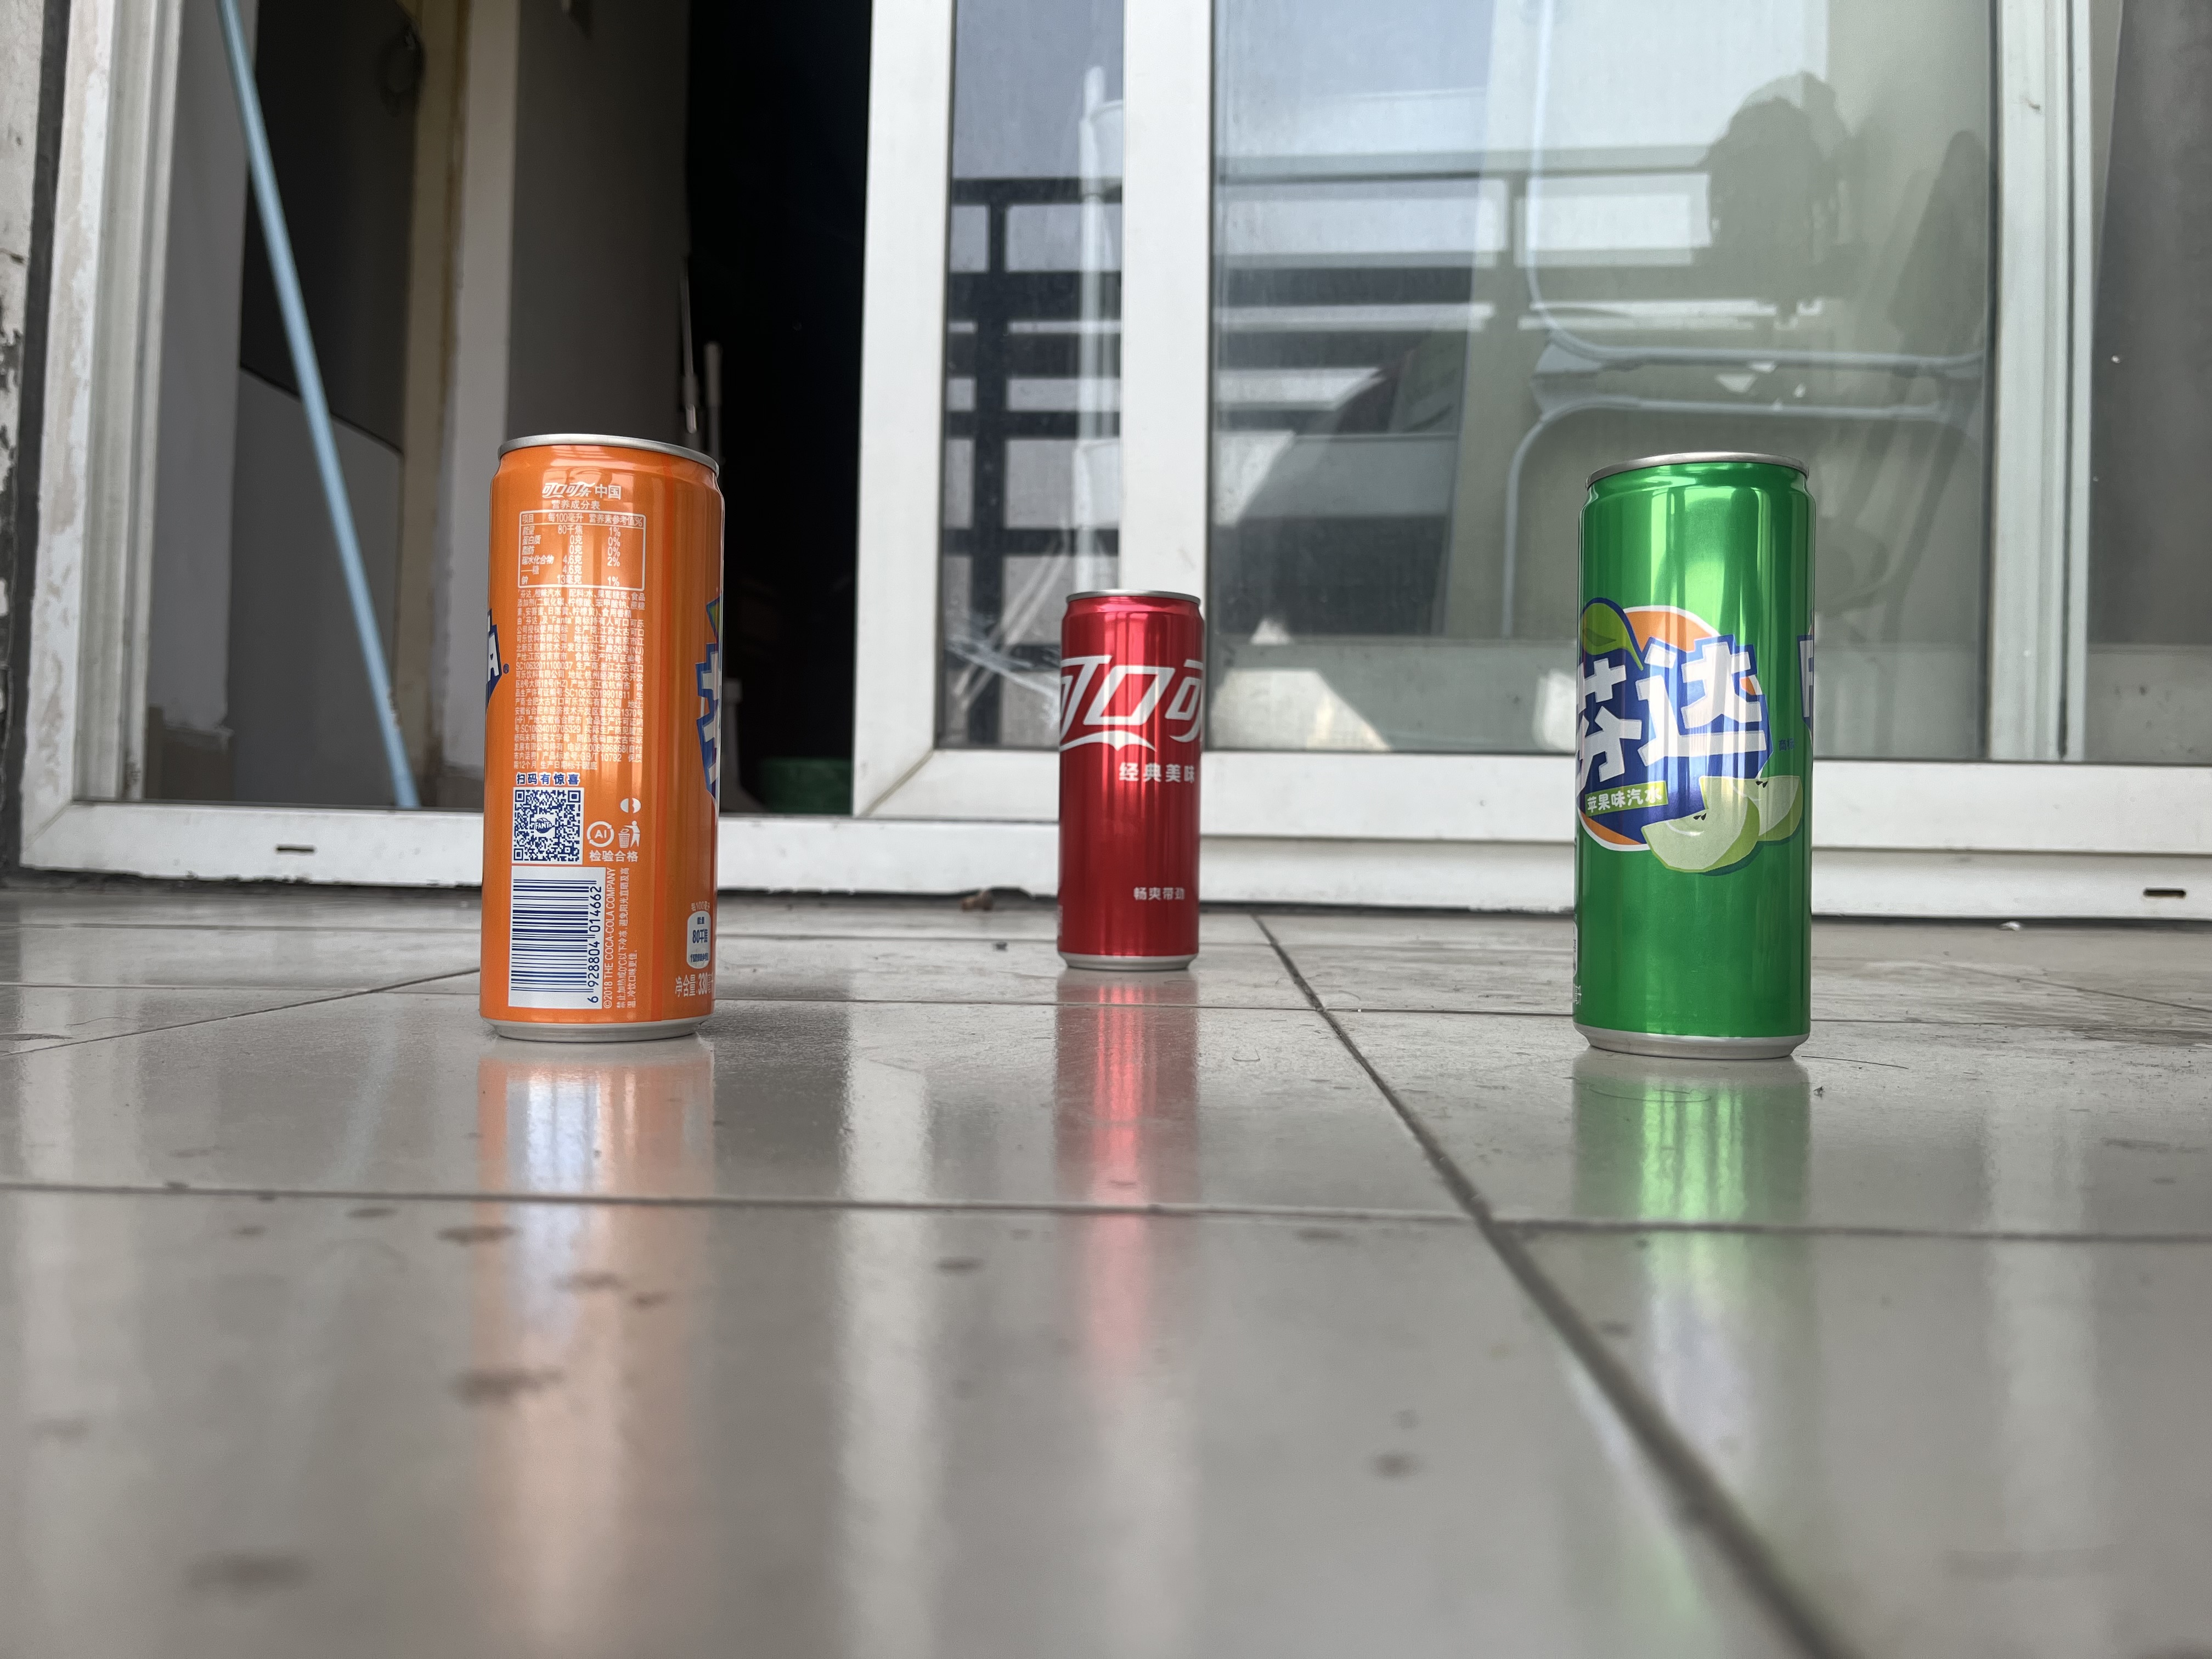CocaCola: (1059, 587, 1200, 971)
FANTA_Apple: (1575, 453, 1815, 1061)
FANTA_Orange: (477, 432, 723, 1046)
